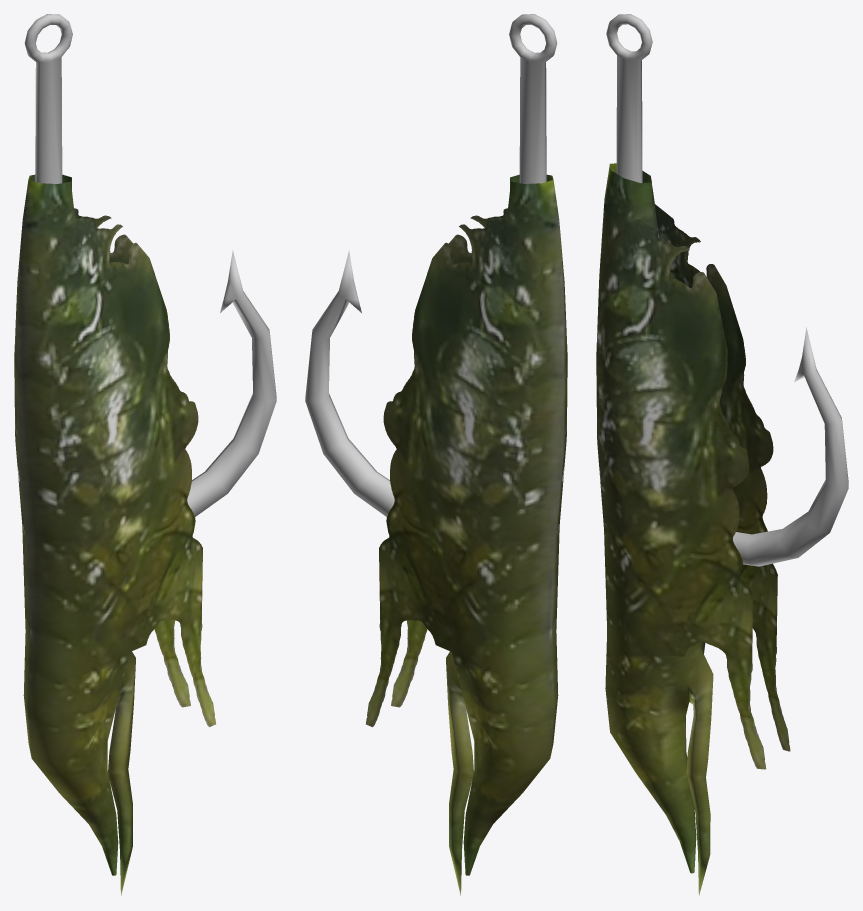
Rendered from Bait_GreenShrimp.fbx.
3 views of the same model, side by side, from view 1: azimuth 30°, elevation 25°; view 2: azimuth 150°, elevation 25°; view 3: azimuth 330°, elevation 25° (orthographic). The views are drawn at different scales.
Visible parts, largest first — view 1: Bait_GreenShrimp; view 2: Bait_GreenShrimp; view 3: Bait_GreenShrimp.
Boxes of the visible parts, x1=… form: Bait_GreenShrimp: x1=14, y1=14, x2=276, y2=895; Bait_GreenShrimp: x1=305, y1=14, x2=567, y2=895; Bait_GreenShrimp: x1=596, y1=14, x2=848, y2=895.
Bounding box in the file's own units: 0.2176 × 0.7245 × 0.0793.
